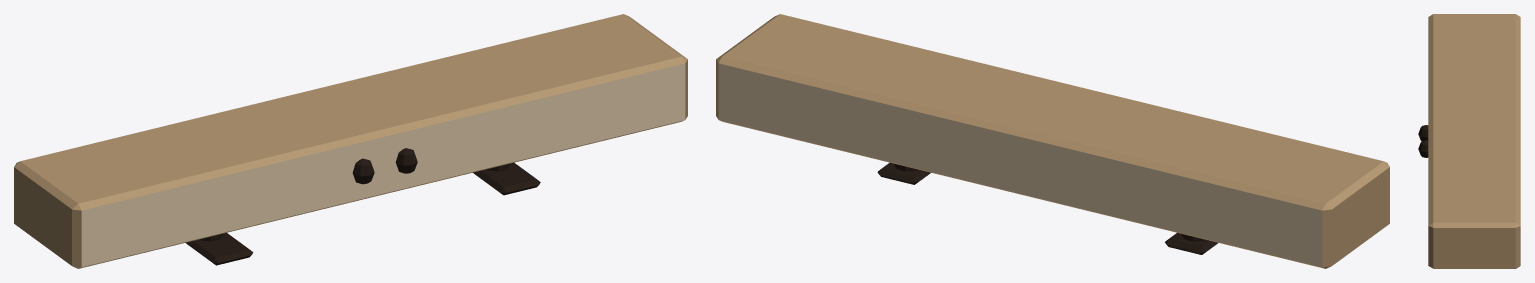
3 renders of one model, left to right at view 1: azimuth 30°, elevation 25°; view 2: azimuth 150°, elevation 25°; view 3: azimuth 270°, elevation 25°, orthographic. The views are drawn at different scales.
Parts seen in each view (by area): view 1: Glyph, Leg_L, Leg_R, Eye_L, Eye_R; view 2: Glyph, Leg_R, Leg_L; view 3: Glyph, Eye_R, Eye_L.
Boxes of the visible parts, x1,y1,x2,y2 form: Glyph: (14, 14, 687, 268); Leg_L: (186, 232, 253, 265); Leg_R: (473, 162, 540, 195); Eye_L: (352, 158, 374, 184); Eye_R: (395, 148, 417, 173); Glyph: (716, 14, 1389, 268); Leg_R: (877, 162, 930, 184); Leg_L: (1165, 232, 1217, 254); Glyph: (1428, 14, 1520, 268); Eye_R: (1418, 140, 1428, 157); Eye_L: (1418, 125, 1428, 141).
Size of the model in its own units: 0.6 by 0.092 by 0.122.
